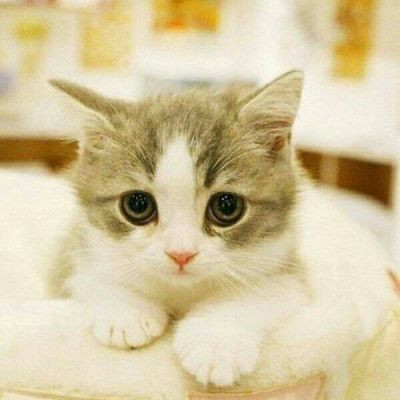cat: (52, 72, 314, 284)
